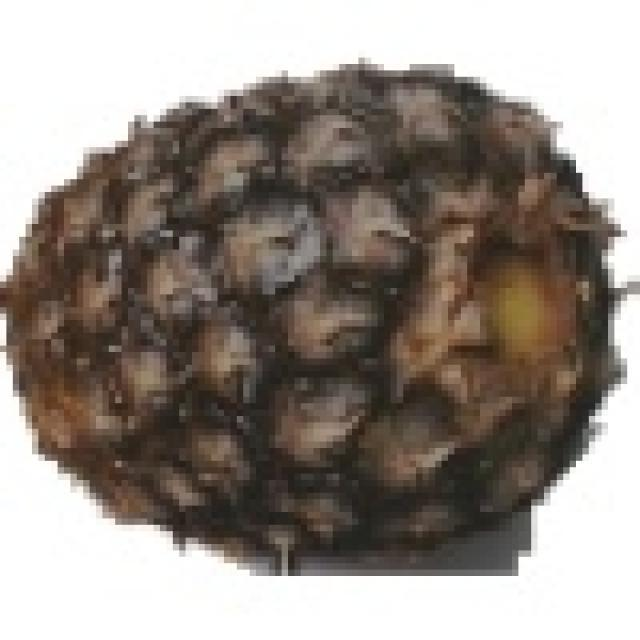pineapple: (0, 58, 602, 563)
